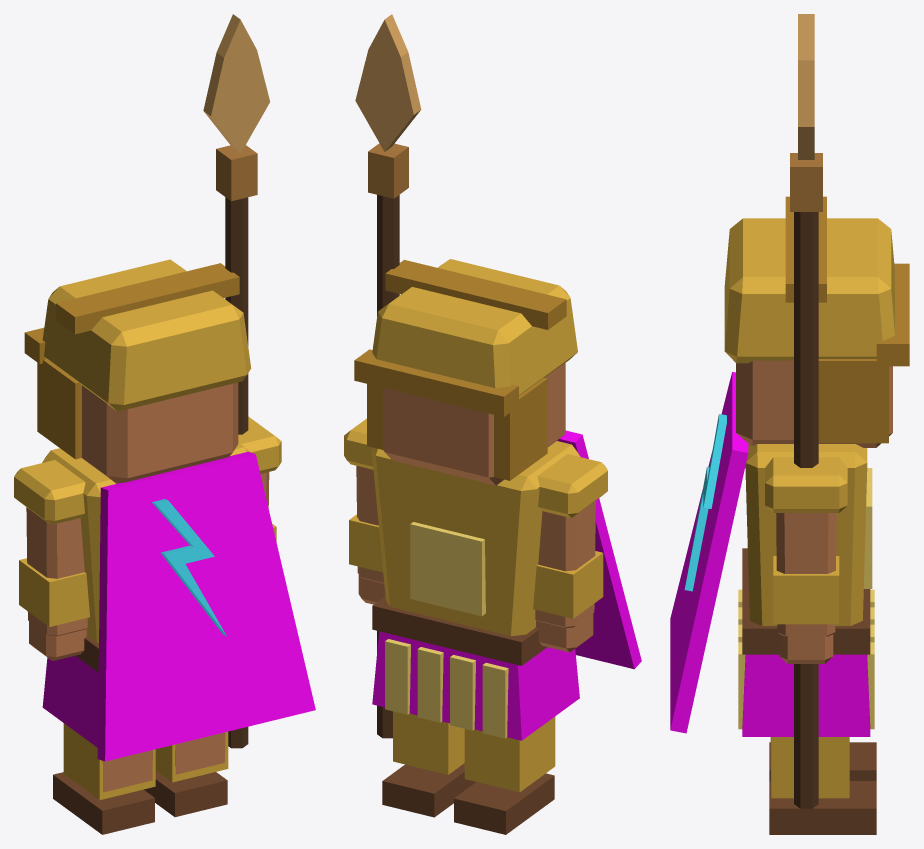
Rendered from CH_ThunderChampion_Olympian.fbx.
3 renders of one model, left to right at view 1: azimuth 30°, elevation 25°; view 2: azimuth 150°, elevation 25°; view 3: azimuth 270°, elevation 25°, orthographic. The views are drawn at different scales.
Parts seen in each view (by area): view 1: Cape, Helm, Head, Blade, CrestBase, ArmL, Skirt, Body, CheekL, ShoulderL, SandalL, Shaft (+11 smaller); view 2: Body, Helm, Head, Skirt, Abs, Blade, CrestBase, Cape, Belt, GreaveL, Brow, CheekL (+18 smaller); view 3: Helm, Shaft, Cape, Body, Skirt, CheekR, Head, ArmR, SandalR, ShoulderR, BracerR, GreaveR (+10 smaller).
Boxes of the visible parts, x1,y1,x2,y2 form: Cape: (97,451,315,761); Helm: (42,259,251,411); Head: (82,382,238,483); Blade: (203,14,269,153); CrestBase: (56,263,239,334); ArmL: (26,507,87,636); Skirt: (42,655,98,747); Body: (42,442,250,642); CheekL: (37,359,81,459); ShoulderL: (14,460,85,524); SandalL: (53,772,154,834); Shaft: (225,197,248,748); Body: (371,441,580,636); Helm: (372,259,577,395); Head: (383,362,565,485); Skirt: (372,631,579,740); Abs: (410,522,485,616); Blade: (355,14,421,151); CrestBase: (385,259,566,329); Cape: (557,430,641,669); Belt: (372,596,547,665); GreaveL: (464,716,555,792); Brow: (354,349,518,416); CheekL: (494,378,547,480); Helm: (724,218,894,363); Shaft: (794,212,818,808); Cape: (670,372,748,733); Body: (745,444,867,625); Skirt: (742,654,870,736); CheekR: (818,359,888,443); Head: (736,360,892,447); ArmR: (776,513,836,636); SandalR: (769,781,876,834); ShoulderR: (765,457,847,512); BracerR: (773,556,839,624); GreaveR: (771,737,849,798).
Bounding box in the file's own units: 0.72 × 0.5793 × 2.23.
